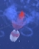active: (4, 5, 37, 45)
